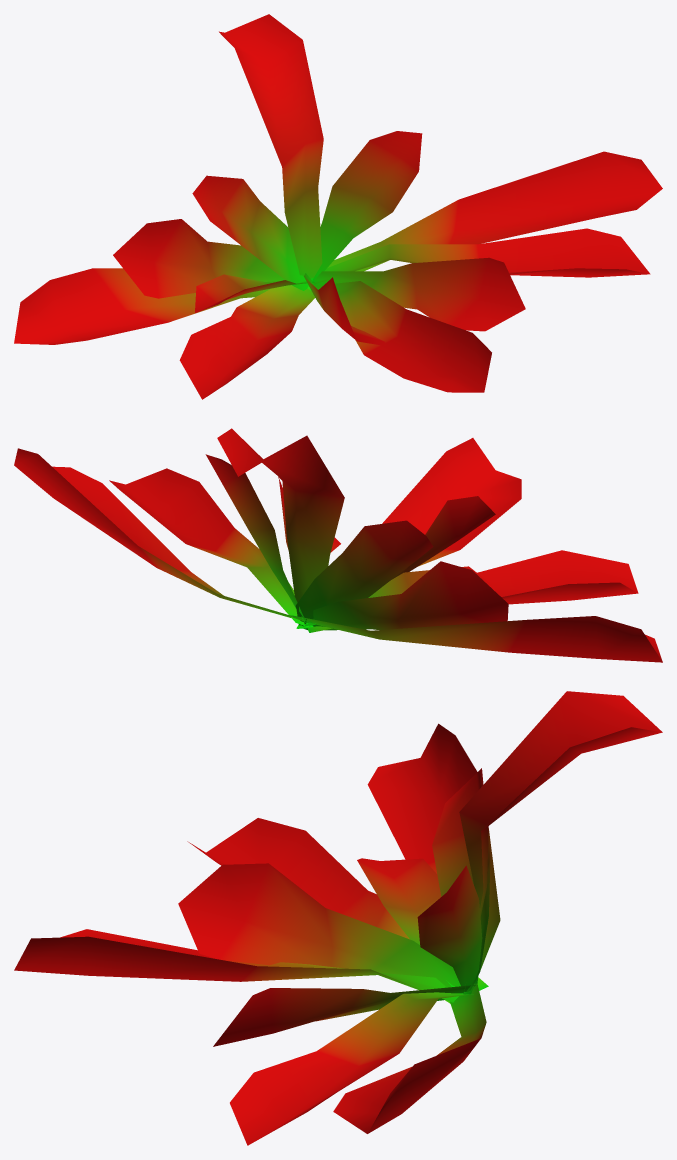
File: Var6_LOD1.fbx
3 renders of one model, top to bottom at view 1: azimuth 30°, elevation 25°; view 2: azimuth 150°, elevation 25°; view 3: azimuth 270°, elevation 25°, orthographic. The views are drawn at different scales.
Visible parts, largest first — view 1: _1bng_Var6_LOD1; view 2: _1bng_Var6_LOD1; view 3: _1bng_Var6_LOD1.
Boxes of the visible parts, x1,y1,x2,y2 form: _1bng_Var6_LOD1: (14, 14, 662, 399); _1bng_Var6_LOD1: (14, 428, 662, 662); _1bng_Var6_LOD1: (14, 691, 662, 1145).
Size of the model in its own units: 39.38 by 13.45 by 27.16.
